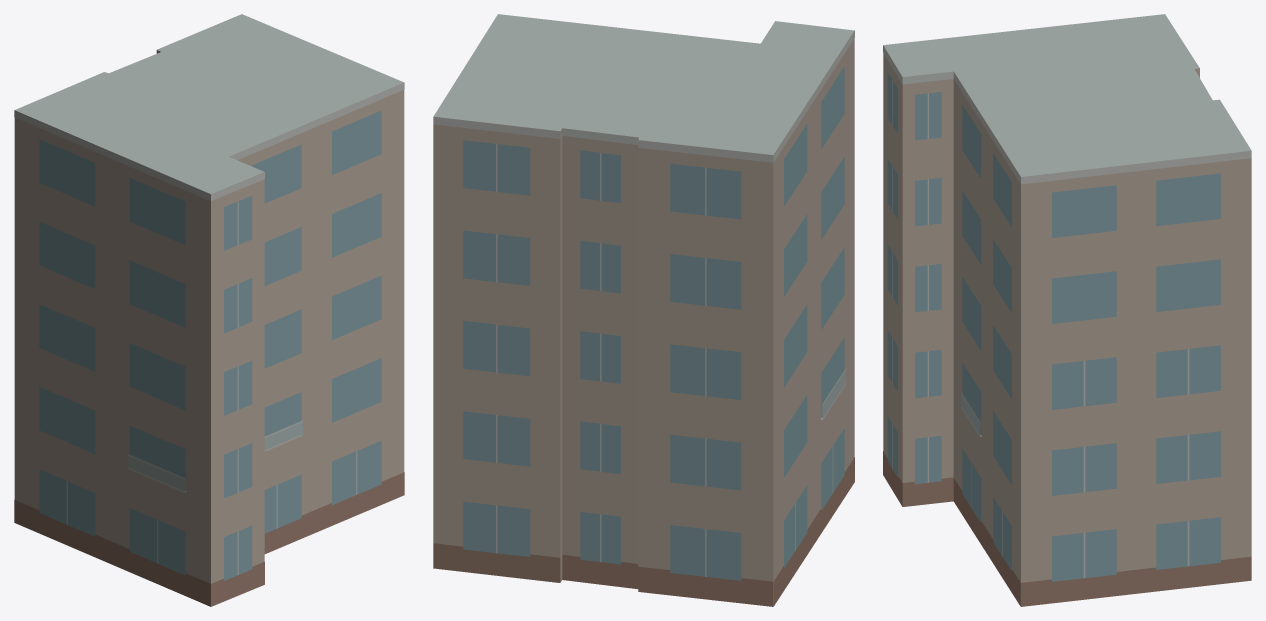
Rendered from survey-upis-32971756.glb.
The picture shows the model from 3 angles, left to right: view 1: azimuth 30°, elevation 25°; view 2: azimuth 150°, elevation 25°; view 3: azimuth 270°, elevation 25°; orthographic projection. The views are drawn at different scales.
Parts seen in each view (by area): view 1: survey-upis-32971756.tmp; view 2: survey-upis-32971756.tmp; view 3: survey-upis-32971756.tmp.
Part boxes in pixels (x1,y1,x2,y2): survey-upis-32971756.tmp: (14,14,404,606); survey-upis-32971756.tmp: (433,14,854,606); survey-upis-32971756.tmp: (883,14,1251,606).
Size of the model in its own units: 11.64 by 14.3 by 11.12.
